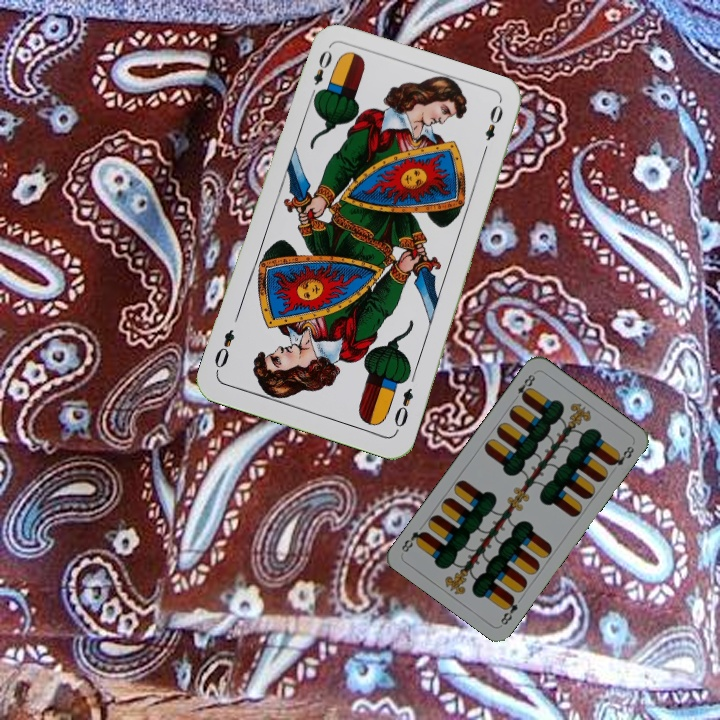E8: (509, 369, 538, 404), (496, 593, 520, 628)
EO: (305, 45, 335, 102), (390, 384, 416, 430)
